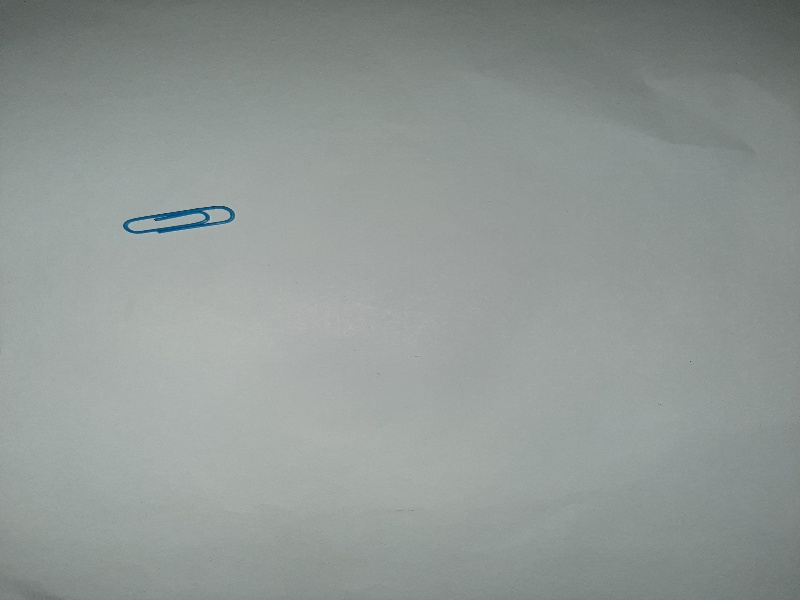Small Jumpclip: (116, 197, 242, 241)
